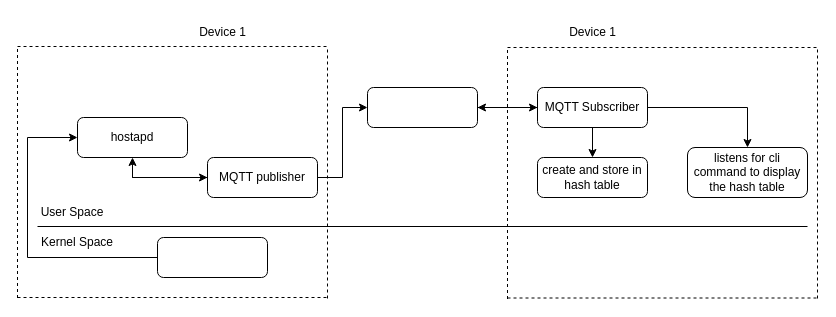
Image size: 836x317. Some labels were removed from this diagram. The shapes that lost their labels are listed below. From the top down, each one's centre as x and y in pixels, then its label:
At [422,107]: "MQTT Broker (mosquitto)".
At [212,257]: "Wi-Fi driver".
